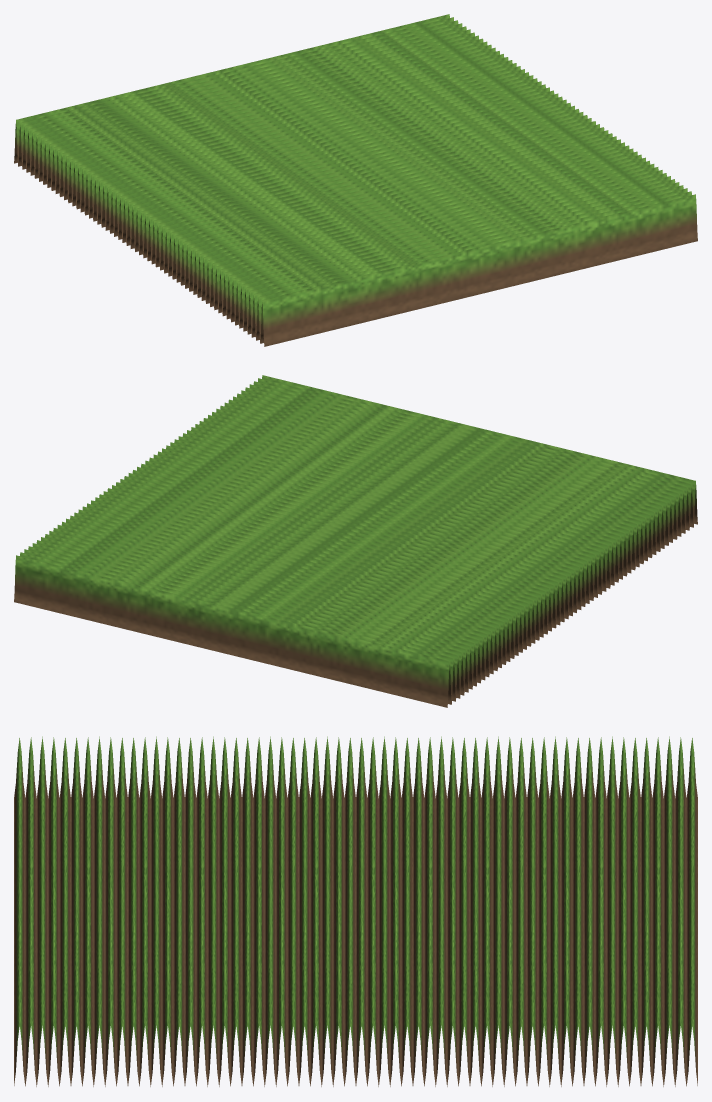
The model's file is field_barley_green.glb.
3 views of the same model, one above another, from view 1: azimuth 30°, elevation 25°; view 2: azimuth 150°, elevation 25°; view 3: azimuth 270°, elevation 25° (orthographic). The views are drawn at different scales.
Visible parts, largest first — view 1: field_barley_green; view 2: field_barley_green; view 3: field_barley_green.
Boxes of the visible parts, x1,y1,x2,y2 form: field_barley_green: (14, 14, 697, 346); field_barley_green: (14, 375, 697, 707); field_barley_green: (14, 736, 697, 1086).
Bounding box in the file's own units: 10 × 1 × 10.
1 material, 1 textured.
